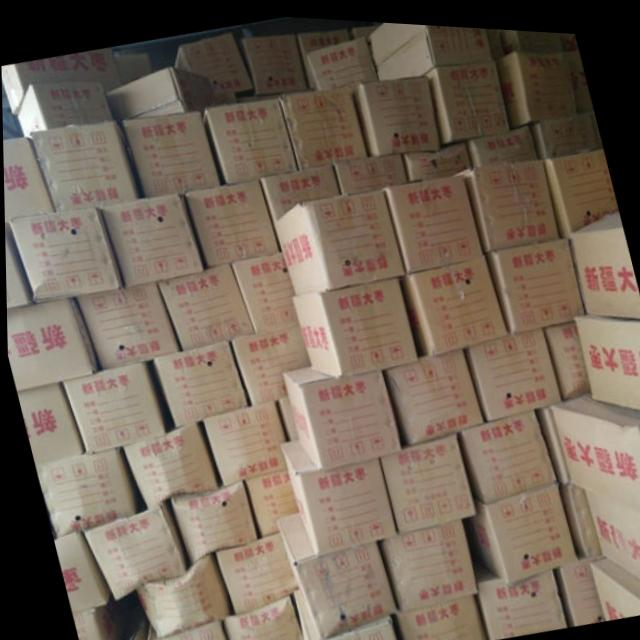box: (275, 508, 392, 634), (273, 183, 404, 292), (278, 437, 396, 551), (279, 363, 401, 467), (291, 273, 416, 373), (460, 476, 575, 577), (7, 205, 120, 301), (399, 249, 506, 350), (549, 385, 640, 503), (82, 502, 184, 599), (31, 120, 140, 210), (381, 343, 482, 440), (385, 169, 482, 269), (101, 191, 204, 285), (60, 359, 164, 452), (485, 231, 583, 329), (453, 402, 553, 498), (376, 513, 474, 607), (461, 323, 560, 415), (34, 447, 135, 537), (76, 278, 178, 367), (380, 429, 472, 527), (462, 153, 557, 245), (5, 296, 96, 390), (123, 108, 219, 196), (150, 337, 246, 425), (1, 45, 121, 114), (185, 175, 277, 265), (156, 260, 253, 345), (120, 421, 215, 506), (134, 553, 230, 637), (206, 95, 297, 181), (570, 202, 640, 310), (470, 553, 564, 633), (279, 81, 366, 167), (423, 53, 507, 140), (168, 479, 254, 562), (104, 64, 216, 127), (202, 397, 284, 483), (356, 69, 440, 151), (542, 140, 616, 231), (371, 18, 493, 73), (214, 530, 294, 611), (495, 43, 577, 122), (573, 306, 640, 402), (230, 321, 309, 400), (291, 585, 395, 640), (17, 79, 111, 137), (16, 383, 83, 464), (582, 481, 640, 574), (231, 248, 295, 329), (173, 28, 252, 89), (391, 589, 483, 640), (260, 160, 338, 220), (51, 532, 107, 611), (2, 135, 53, 217), (220, 591, 301, 640), (241, 30, 306, 91), (308, 31, 377, 85), (542, 314, 589, 392), (550, 549, 601, 619), (242, 468, 294, 534), (587, 550, 640, 613), (296, 23, 349, 85), (333, 149, 405, 191), (557, 476, 598, 548), (531, 106, 596, 151), (467, 118, 537, 158), (70, 595, 130, 640), (534, 399, 566, 477), (403, 137, 471, 173), (4, 221, 32, 308), (142, 618, 223, 640), (565, 43, 593, 105), (498, 23, 563, 49), (114, 51, 151, 83), (276, 394, 294, 437), (349, 19, 378, 35), (487, 23, 503, 52), (214, 85, 236, 102), (560, 26, 578, 43)
